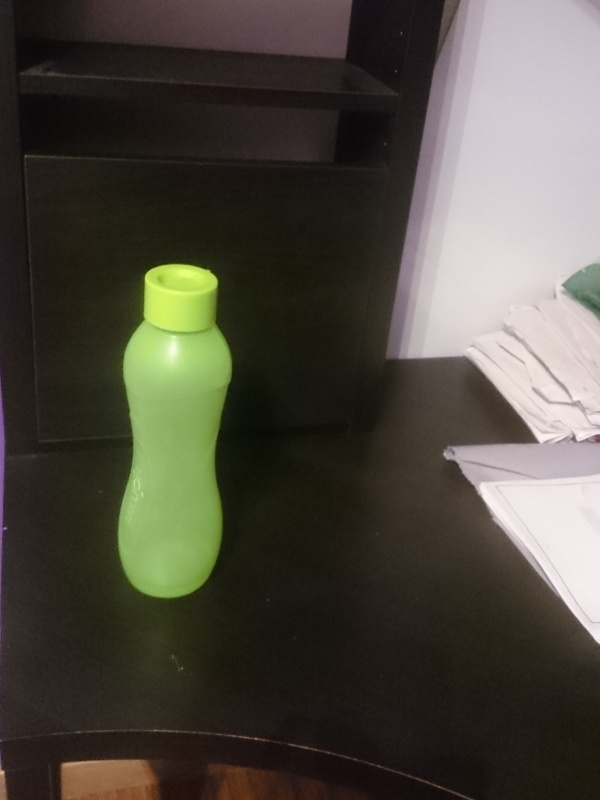my bottle: (116, 265, 233, 603)
